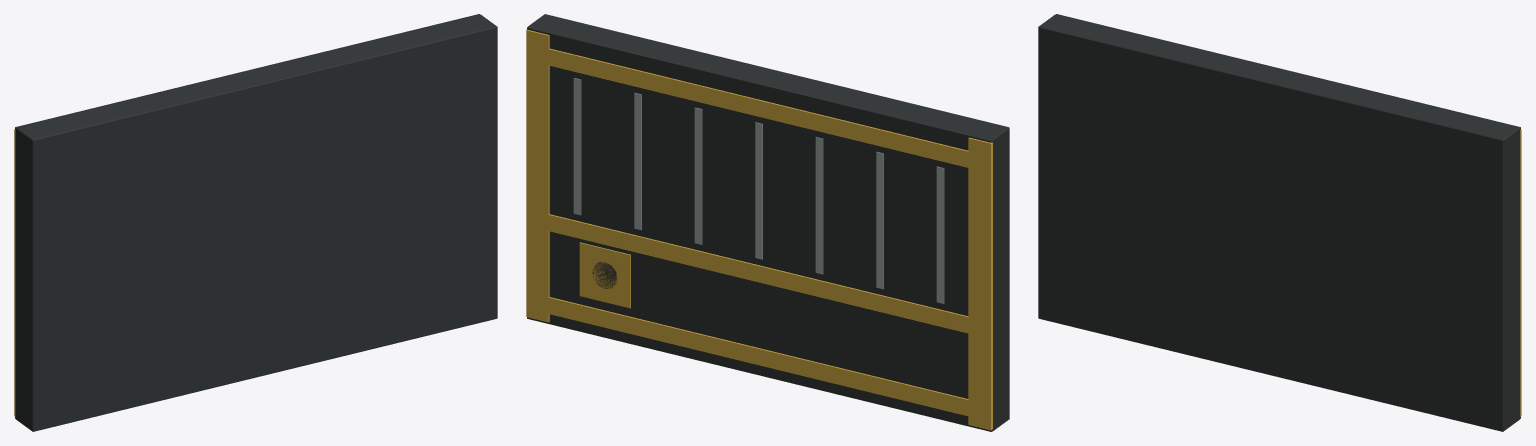
Rendered from processor_guard_2m.glb.
The picture shows the model from 3 angles, left to right: view 1: azimuth 30°, elevation 25°; view 2: azimuth 150°, elevation 25°; view 3: azimuth 330°, elevation 25°; orthographic projection.
Visible parts, largest first — view 1: processor_guard_2m; view 2: processor_guard_2m; view 3: processor_guard_2m.
Part boxes in pixels (<box>): processor_guard_2m: <box>14,14,497,431</box>; processor_guard_2m: <box>526,14,1009,431</box>; processor_guard_2m: <box>1038,14,1521,431</box>.
Bounding box in the file's own units: 2 × 1.2 × 0.14.
